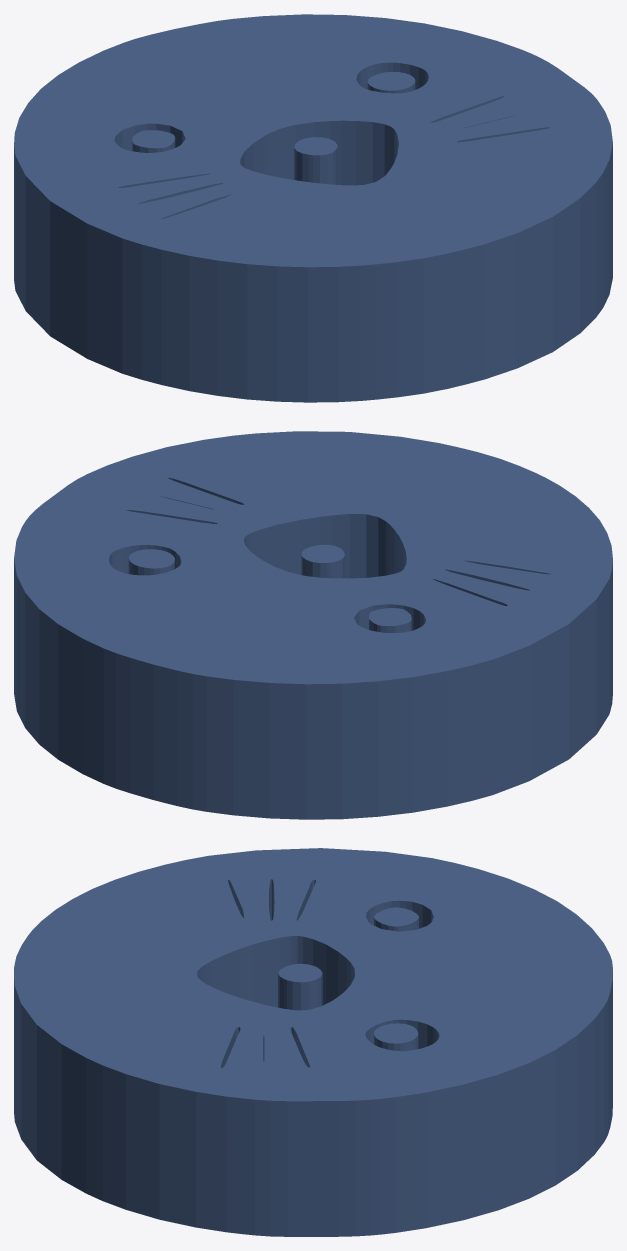
The model's file is lassi.glb.
3 views of the same model, one above another, from view 1: azimuth 30°, elevation 25°; view 2: azimuth 150°, elevation 25°; view 3: azimuth 270°, elevation 25° (orthographic).
Parts seen in each view (by area): view 1: Mesh_Mesh_head_geo.001_lambert2SG.001; view 2: Mesh_Mesh_head_geo.001_lambert2SG.001; view 3: Mesh_Mesh_head_geo.001_lambert2SG.001.
Boxes of the visible parts, x1,y1,x2,y2 form: Mesh_Mesh_head_geo.001_lambert2SG.001: (14,14,612,402); Mesh_Mesh_head_geo.001_lambert2SG.001: (14,431,612,819); Mesh_Mesh_head_geo.001_lambert2SG.001: (14,848,612,1236).
Bounding box in the file's own units: 16 × 4 × 16.
